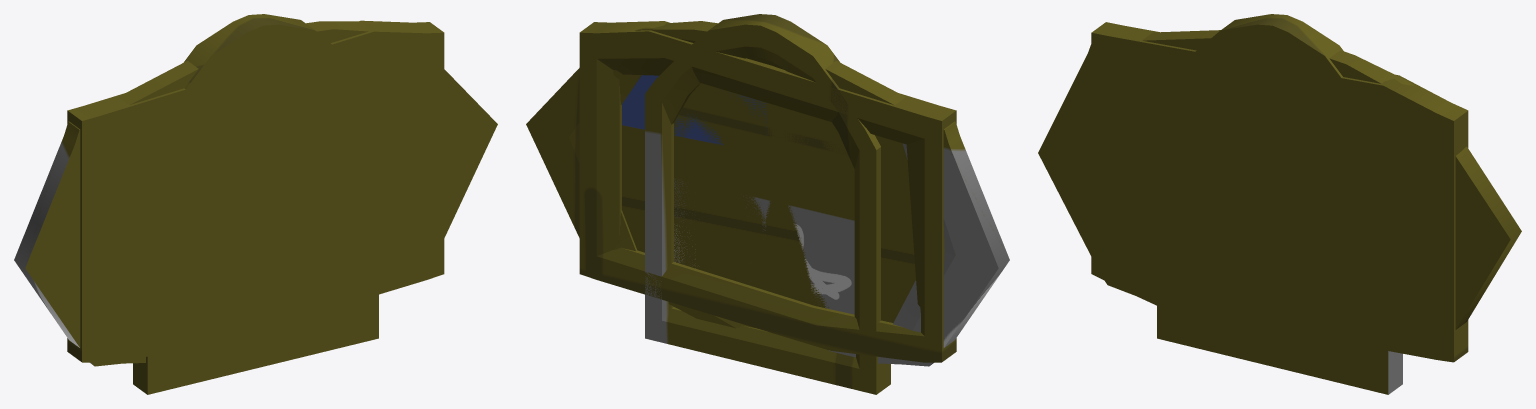
Rendered from BgMD_paintings.fbx.
The picture shows the model from 3 angles, left to right: view 1: azimuth 30°, elevation 25°; view 2: azimuth 150°, elevation 25°; view 3: azimuth 330°, elevation 25°; orthographic projection.
Visible parts, largest first — view 1: Bg_painting_sunflower, Bg_painting_swing, Bg_painting_sea; view 2: Bg_painting_sunflower, Bg_painting_swing, Bg_painting_sea; view 3: Bg_painting_sunflower, Bg_painting_swing, Bg_painting_sea.
Boxes of the visible parts, bbox=[...] form: Bg_painting_sunflower: bbox=[67, 20, 444, 362]; Bg_painting_swing: bbox=[133, 14, 378, 394]; Bg_painting_sea: bbox=[14, 21, 497, 366]; Bg_painting_sunflower: bbox=[579, 21, 956, 362]; Bg_painting_swing: bbox=[645, 14, 890, 394]; Bg_painting_sea: bbox=[526, 21, 1009, 366]; Bg_painting_sunflower: bbox=[1091, 22, 1468, 362]; Bg_painting_swing: bbox=[1157, 14, 1402, 394]; Bg_painting_sea: bbox=[1038, 30, 1521, 329].
Size of the model in its own units: 1.13 by 0.7806 by 0.0604.
